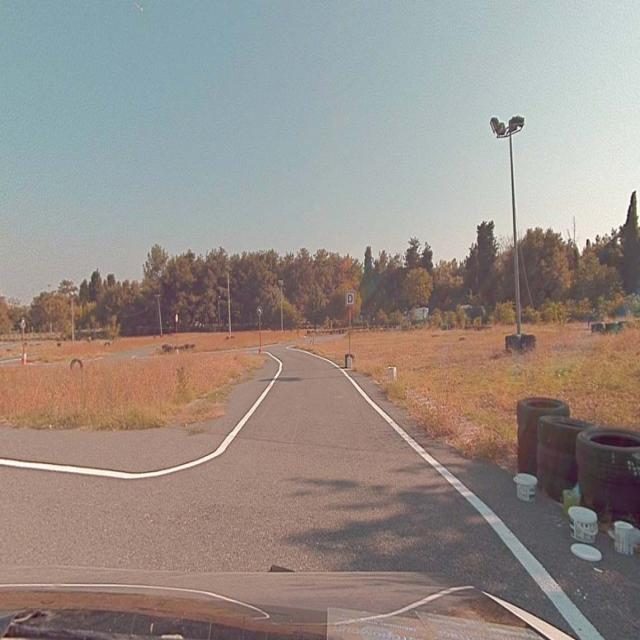durak: (345, 291, 355, 305)
